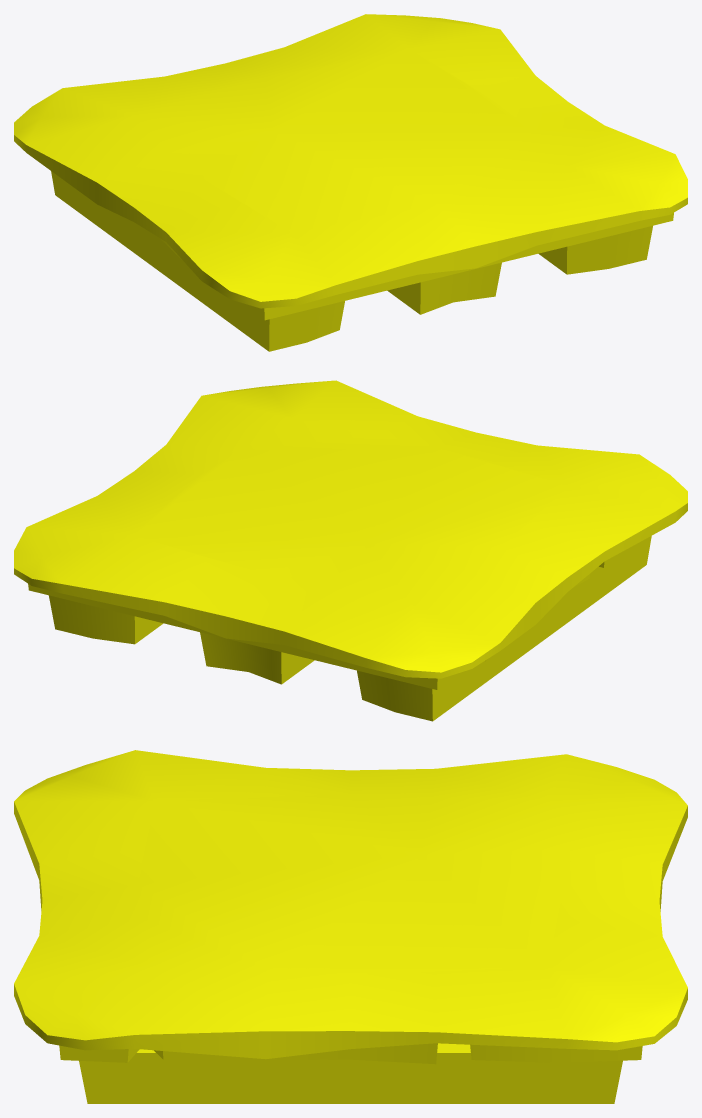
The model's file is kaykit-pallet-wood-covered-a.glb.
3 views of the same model, one above another, from view 1: azimuth 30°, elevation 25°; view 2: azimuth 150°, elevation 25°; view 3: azimuth 270°, elevation 25° (orthographic). The views are drawn at different scales.
Visible parts, largest first — view 1: Pallet_Wood_Covered_A; view 2: Pallet_Wood_Covered_A; view 3: Pallet_Wood_Covered_A.
Boxes of the visible parts, bbox=[...] form: Pallet_Wood_Covered_A: bbox=[14, 14, 687, 351]; Pallet_Wood_Covered_A: bbox=[14, 380, 687, 721]; Pallet_Wood_Covered_A: bbox=[14, 750, 687, 1103].
Size of the model in its own units: 1.72 by 0.2999 by 1.72.
